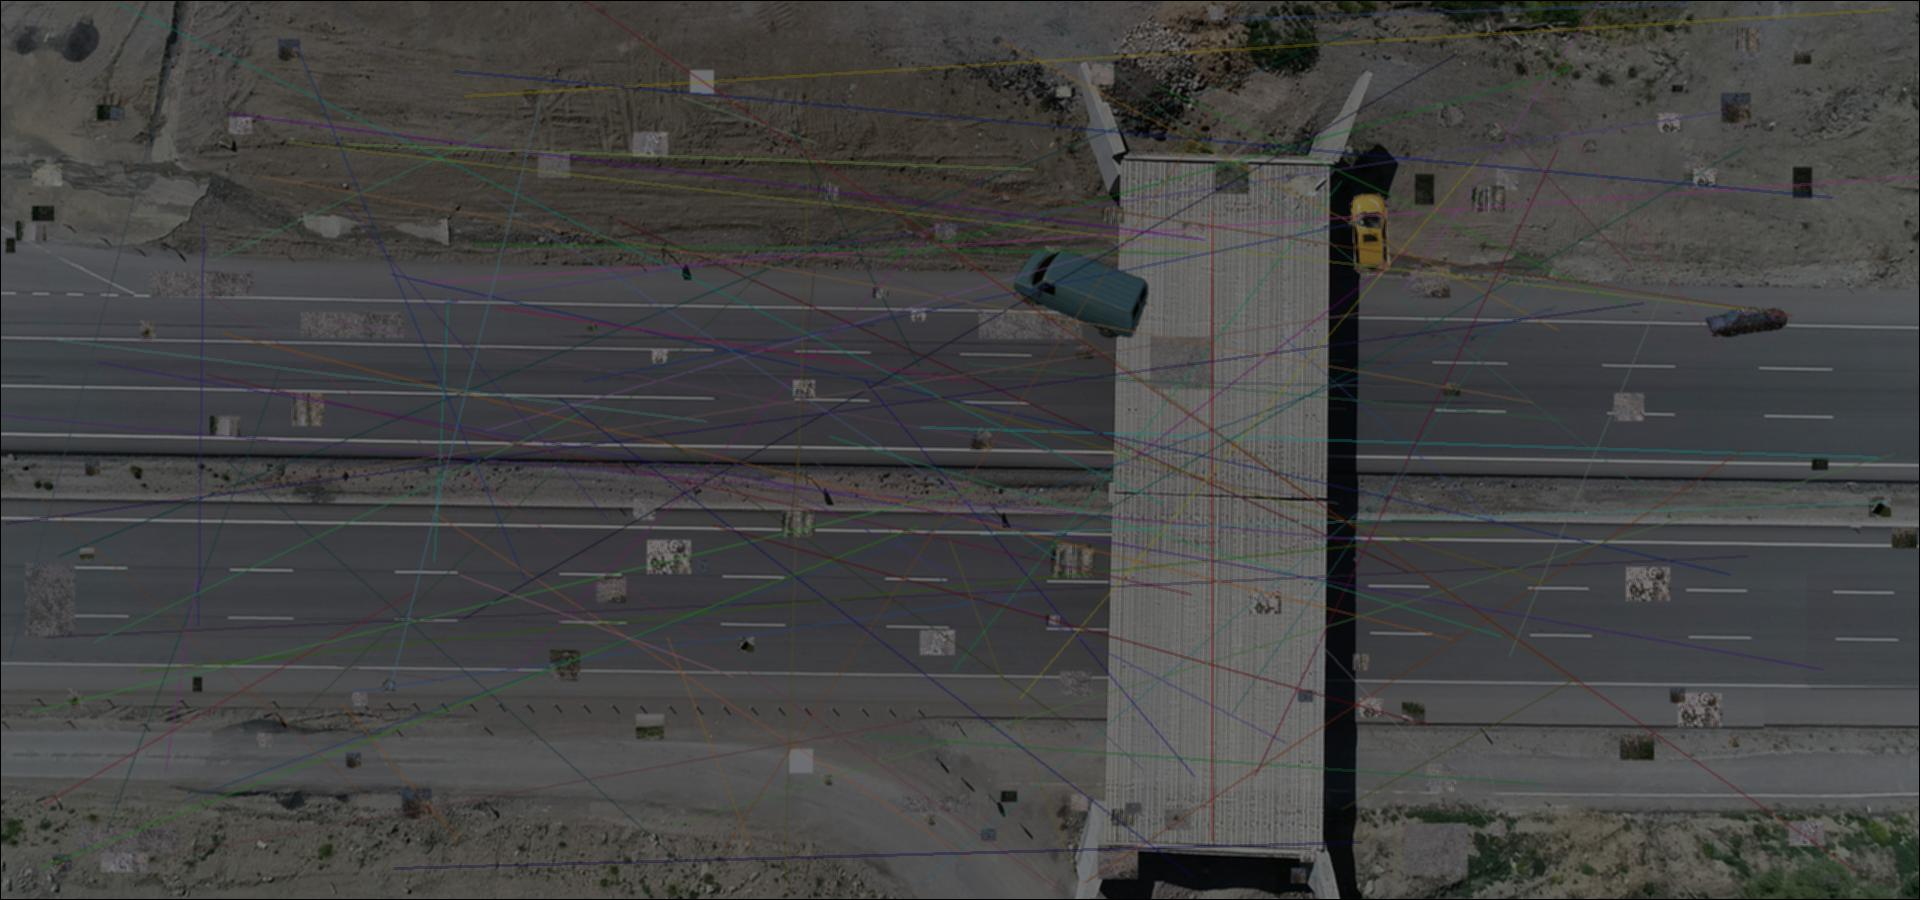arac: (1014, 249, 1150, 338), (1349, 190, 1396, 276), (1704, 305, 1788, 338)
